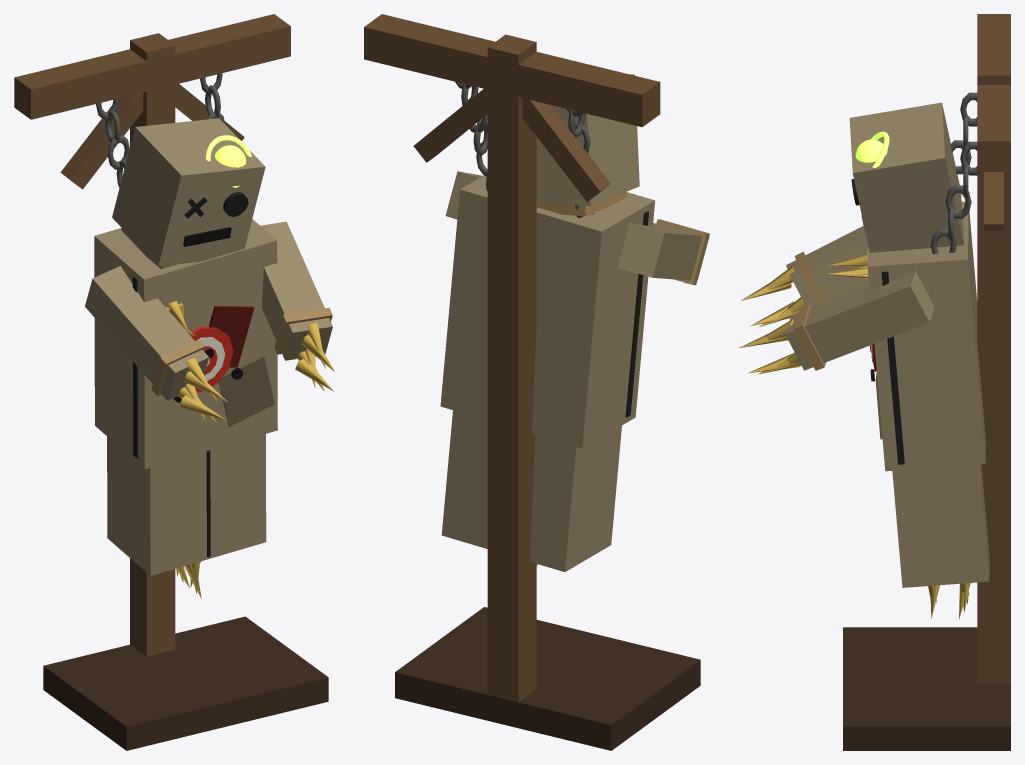
The model's file is maniqui-encadenado.glb.
3 renders of one model, left to right at view 1: azimuth 30°, elevation 25°; view 2: azimuth 150°, elevation 25°; view 3: azimuth 270°, elevation 25°, orthographic. The views are drawn at different scales.
Visible parts, largest first — view 1: base_madera, costal_torso, costal_piernas, saco_cabeza, viga_superior, poste_trasero, brazo_costal_der, brazo_costal_izq, refuerzo_der, remiendo, mancha_sangre, diana_pecho (+6 smaller); view 2: costal_torso, poste_trasero, base_madera, costal_piernas, viga_superior, saco_cabeza, brazo_costal_der, refuerzo_der, refuerzo_izq, costura_lateral_der, cuello_cuerda, atadura_der (+1 smaller); view 3: costal_torso, base_madera, poste_trasero, saco_cabeza, costal_piernas, brazo_costal_izq, viga_superior, brazo_costal_der, refuerzo_izq, costura_lateral_izq, atadura_izq, atadura_der (+2 smaller).
Boxes of the visible parts, x1,y1,x2,y2 form: base_madera: (43,616,328,750); costal_torso: (94,219,277,469); costal_piernas: (107,434,266,575); saco_cabeza: (112,118,265,266); viga_superior: (14,14,290,119); poste_trasero: (130,33,175,656); brazo_costal_der: (85,266,209,400); brazo_costal_izq: (260,221,332,360); refuerzo_der: (60,92,143,189); remiendo: (219,356,274,426); mancha_sangre: (208,306,254,367); diana_pecho: (190,326,233,392); costal_torso: (440,175,655,448); poste_trasero: (487,34,536,702); base_madera: (395,607,700,750); costal_piernas: (441,410,621,571); viga_superior: (364,14,660,127); saco_cabeza: (536,74,639,206); brazo_costal_der: (617,223,709,280); refuerzo_der: (522,98,610,201); refuerzo_izq: (413,89,487,162); costura_lateral_der: (625,211,648,417); cuello_cuerda: (536,191,627,216); atadura_der: (656,219,709,285); costal_torso: (867,201,985,471); base_madera: (843,627,1010,750); poste_trasero: (977,61,1010,683); saco_cabeza: (849,102,963,252); costal_piernas: (892,464,989,587); brazo_costal_izq: (785,271,934,370); viga_superior: (977,14,1010,171); brazo_costal_der: (786,226,869,307); refuerzo_izq: (984,172,1003,231); costura_lateral_izq: (881,271,904,464); atadura_izq: (794,304,825,370); atadura_der: (794,251,827,304).
Size of the model in its own units: 0.9 by 2.08 by 0.8125.
